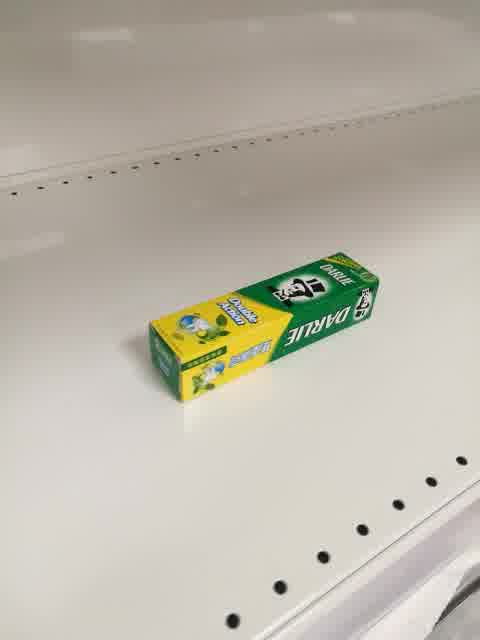toothpaste: (146, 251, 382, 405)
